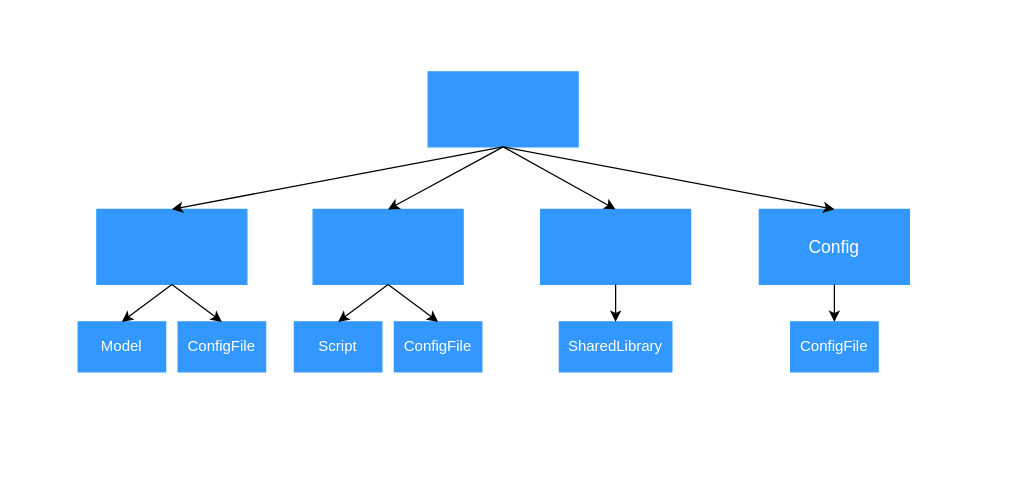
The diagram is 1019 pixels wide and 494 high, and some of its shapes have lost their labels. Each missing label, with the box of its shape:
C++: (539, 208, 691, 284)
FlowUnit: (427, 71, 578, 147)
Inference: (96, 208, 247, 284)
Python: (312, 208, 463, 284)
